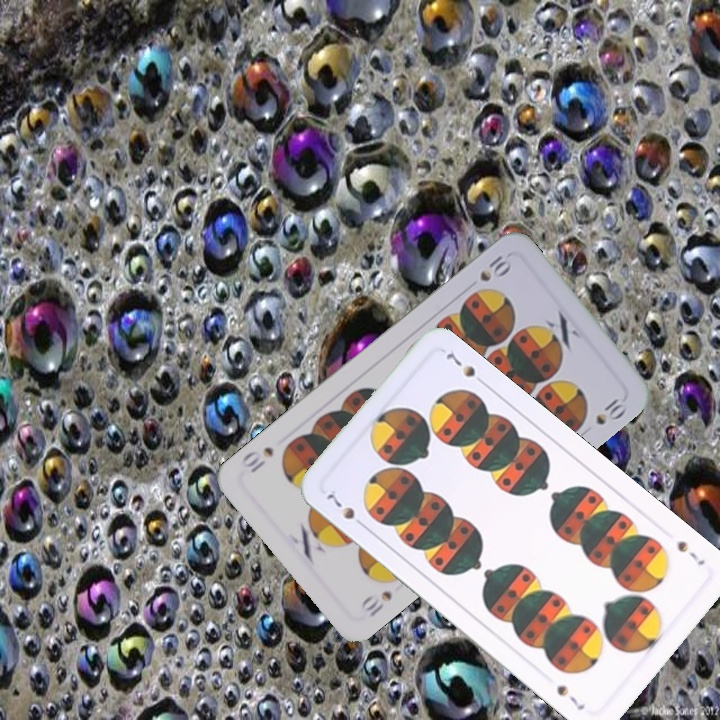S10: (357, 586, 395, 620), (475, 251, 514, 284)
S7: (322, 489, 369, 531), (673, 536, 708, 568)
